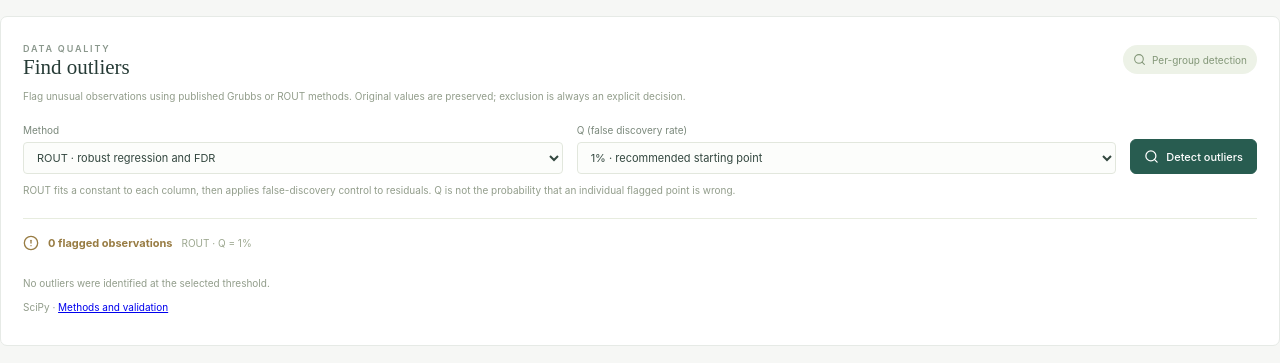
Test: outlier results show their actual parameters and become stale after method or Q changes
Expected: the text "rerun detection" is not shown
Select ".05" in the dropdown named "Outlier Q" at [846, 158], box [577, 142, 1116, 174]
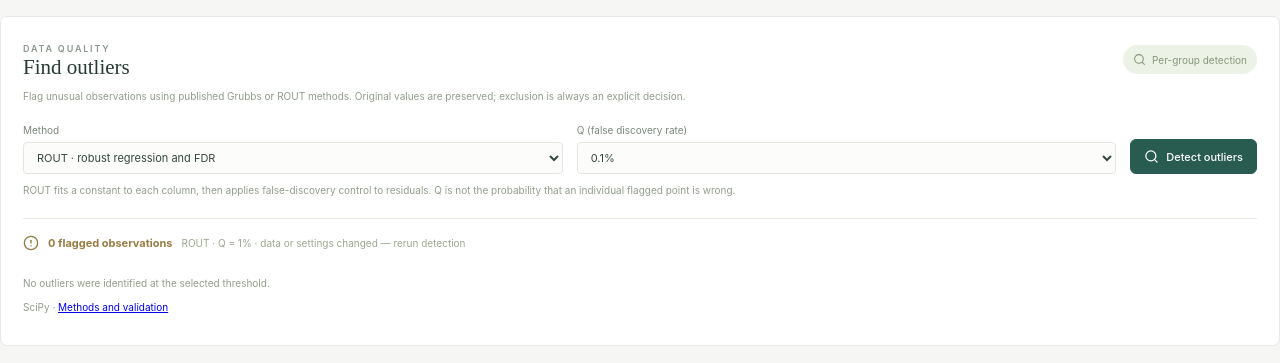
Expected: the text "Q = 1%" is shown, [218, 237, 252, 249]
Result: the text "settings changed — rerun detection" is shown at [252, 237, 466, 249]
